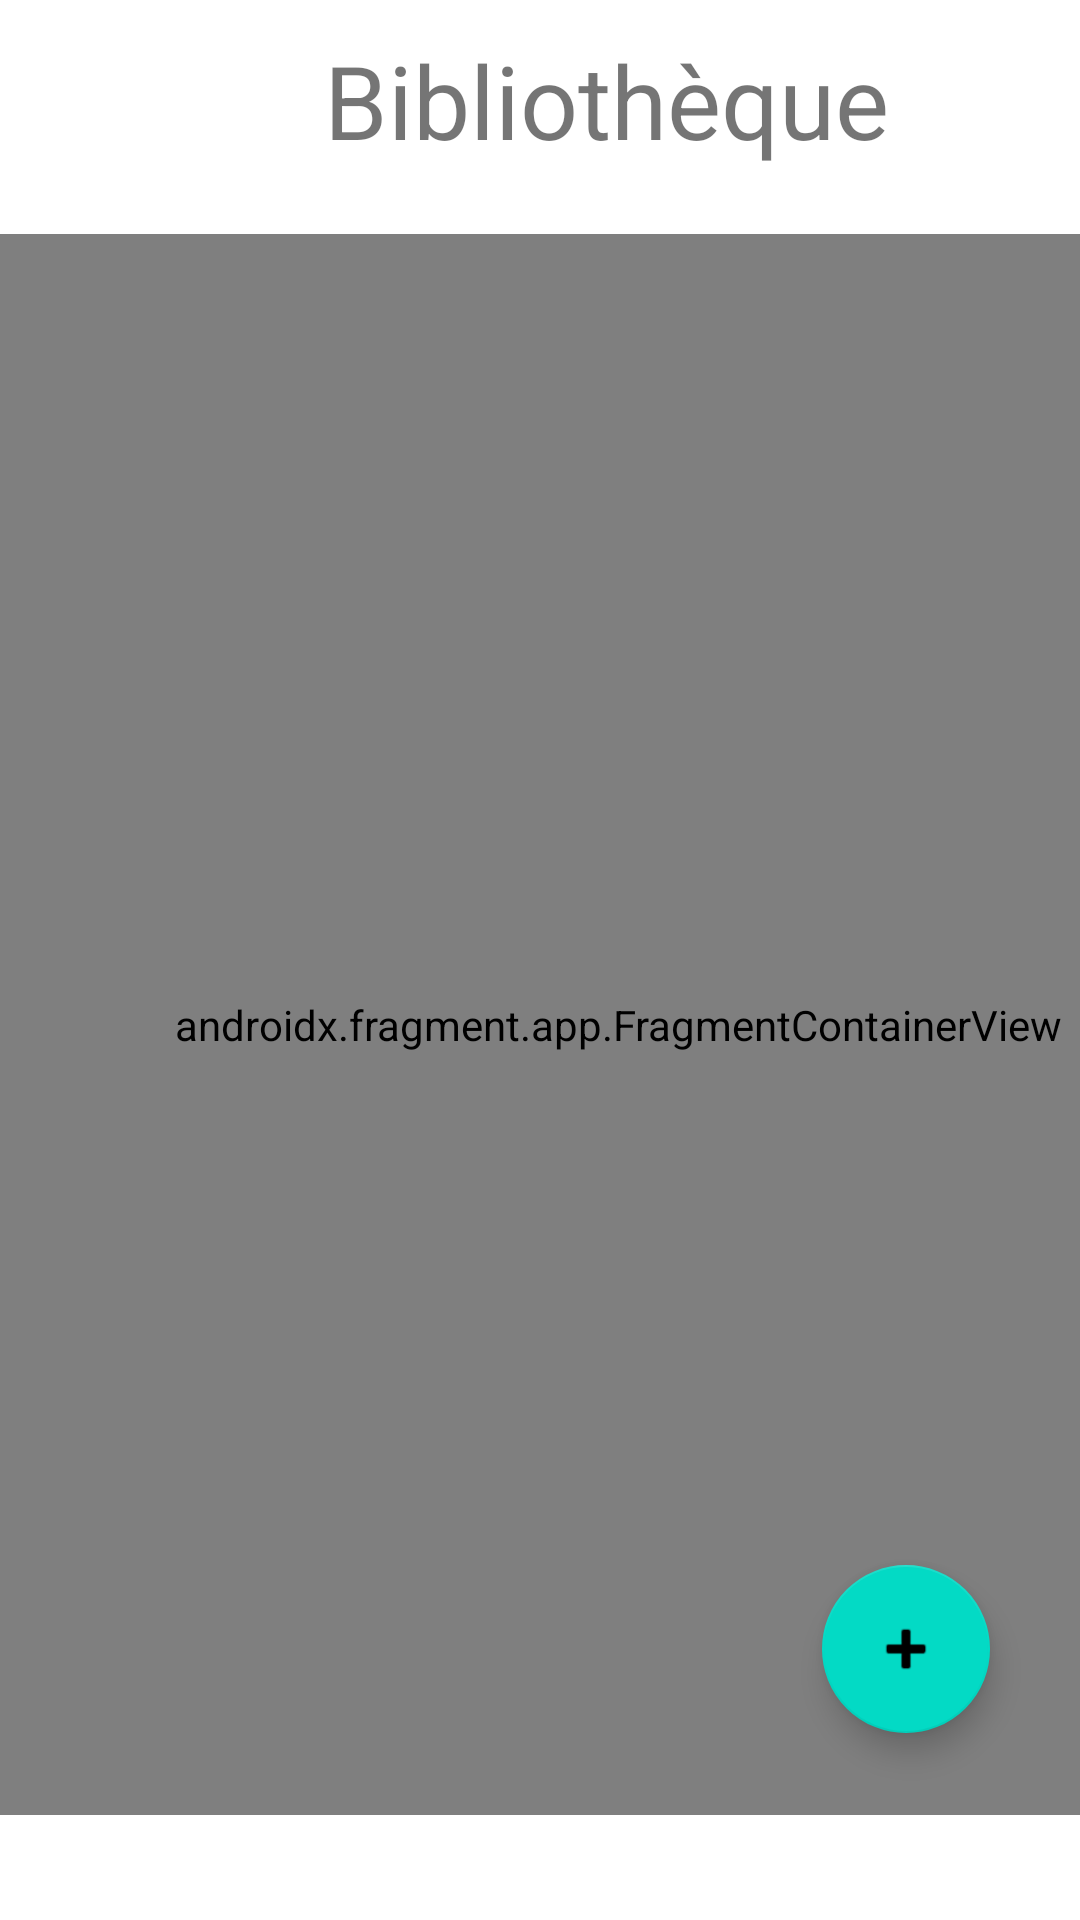

Icons on this 1080w x 1920h Android screen, each with its box as (x1, y1, x2, y2):
add: (822, 1565, 990, 1733)
